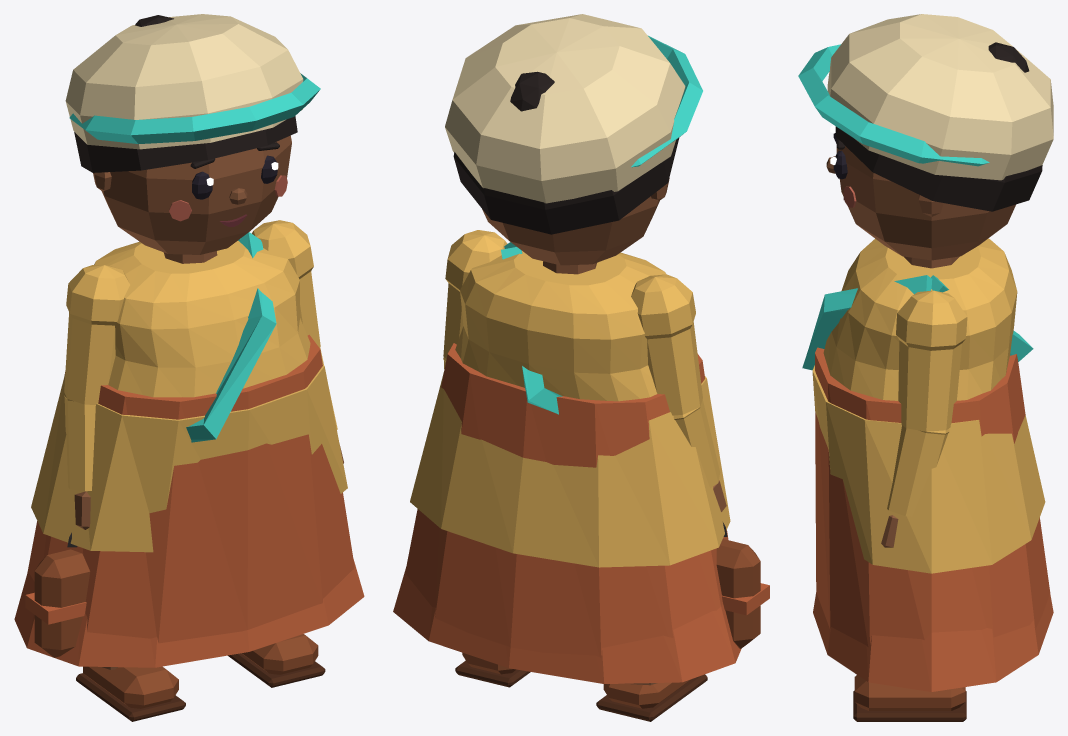
File: dun-k2.glb
The picture shows the model from 3 angles, left to right: view 1: azimuth 30°, elevation 25°; view 2: azimuth 150°, elevation 25°; view 3: azimuth 270°, elevation 25°; orthographic projection.
Parts seen in each view (by area): view 1: stofflagen, kopfbedeckung, torso, kopf, rock, arm_r, gegenstand_case, haare, schärpe, schuh_r, schuh_l, arm_l (+2 smaller); view 2: stofflagen, kopfbedeckung, torso, rock, arm_r, haare, kopf, gegenstand_case, arm_l, schuh_r, schuh_l, schärpe; view 3: stofflagen, kopfbedeckung, torso, arm_l, rock, kopf, haare, schuh_l, schärpe, gesicht.
Boxes of the visible parts, <box> form: stofflagen: <box>27,334,354,643</box>; kopfbedeckung: <box>65,14,320,149</box>; torso: <box>94,241,310,397</box>; kopf: <box>93,135,291,254</box>; rock: <box>14,559,364,667</box>; arm_r: <box>64,265,129,491</box>; gegenstand_case: <box>25,532,90,657</box>; haare: <box>74,15,297,172</box>; schärpe: <box>186,232,276,442</box>; schuh_r: <box>76,666,185,721</box>; schuh_l: <box>228,634,325,687</box>; arm_l: <box>252,220,337,429</box>; stofflagen: <box>405,343,730,657</box>; kopfbedeckung: <box>445,14,702,203</box>; torso: <box>455,251,665,401</box>; rock: <box>393,567,741,683</box>; arm_r: <box>631,274,720,488</box>; haare: <box>453,71,679,234</box>; kopf: <box>482,178,669,265</box>; gegenstand_case: <box>716,522,769,648</box>; arm_l: <box>443,230,507,369</box>; schuh_r: <box>596,674,707,721</box>; schuh_l: <box>455,652,530,687</box>; schärpe: <box>501,242,562,414</box>; stofflagen: <box>812,347,1050,647</box>; kopfbedeckung: <box>798,14,1053,180</box>; torso: <box>823,238,1017,400</box>; arm_l: <box>887,290,967,516</box>; rock: <box>813,592,1053,691</box>; kopf: <box>836,146,1015,260</box>; haare: <box>835,42,1042,211</box>; schuh_l: <box>853,675,966,721</box>; schärpe: <box>802,275,1033,370</box>; gesicht: <box>826,125,856,207</box>.
Bounding box in the file's own units: 0.0126 × 0.0233 × 0.00838.
